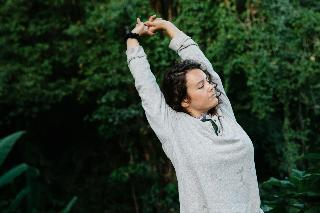person - v3 P: (126, 16, 263, 212)
